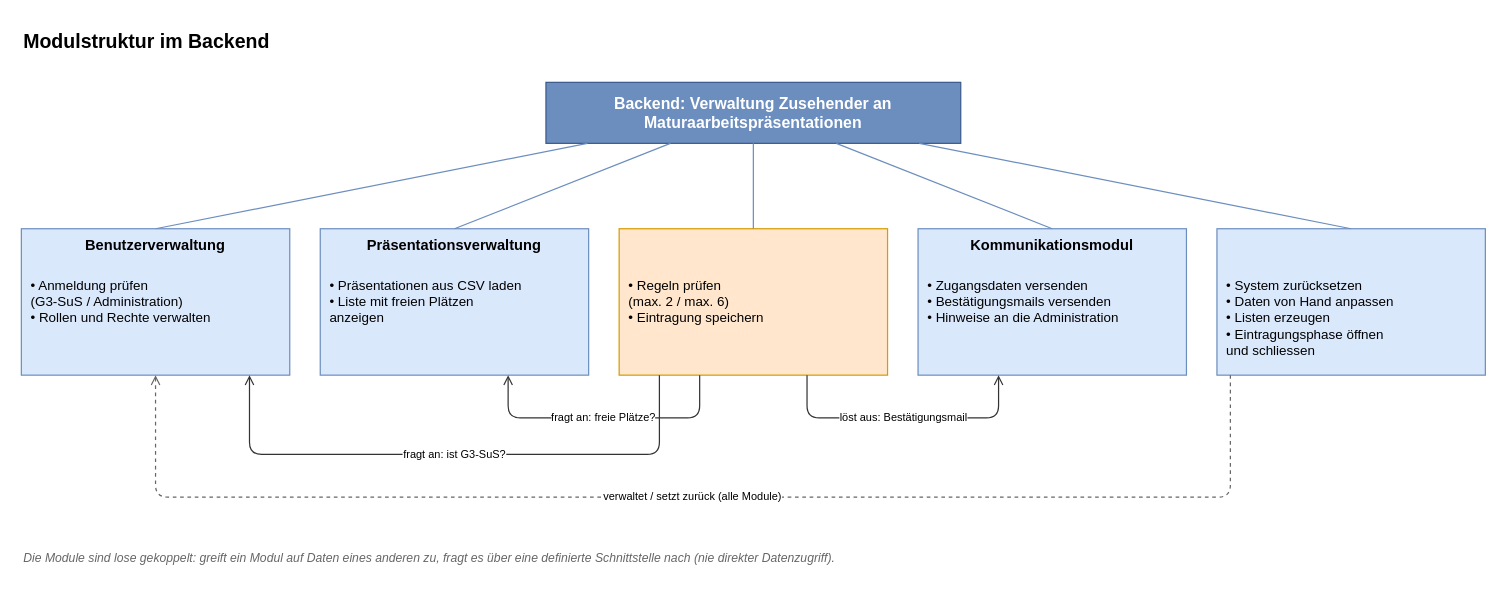
Some shapes in this 1507 by 590 pixel diagram are drawn without their labels. The box of each missing label's shape, as (x1, y1, x2, y2) in pixels:
Administrationsmodul: (1216, 228, 1485, 375)
Zuweisungssystem (Kernmodul): (618, 228, 888, 375)
